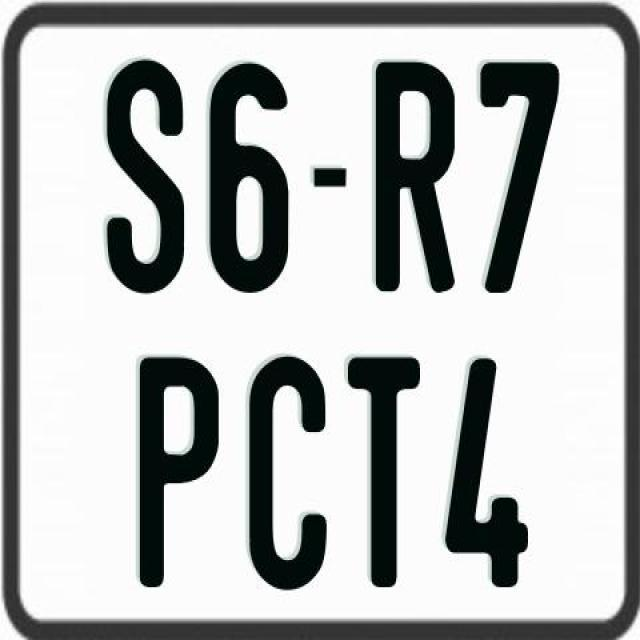license-plate: (4, 3, 640, 618), (0, 0, 6, 26)
